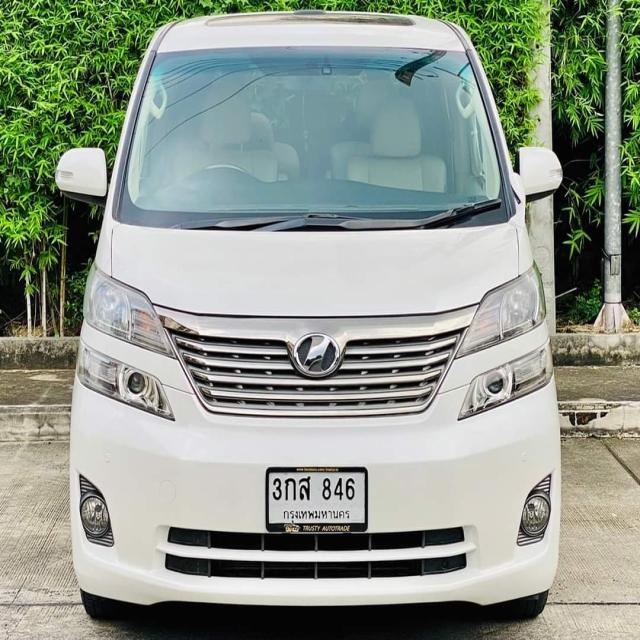license_plate: (264, 463, 371, 532)
